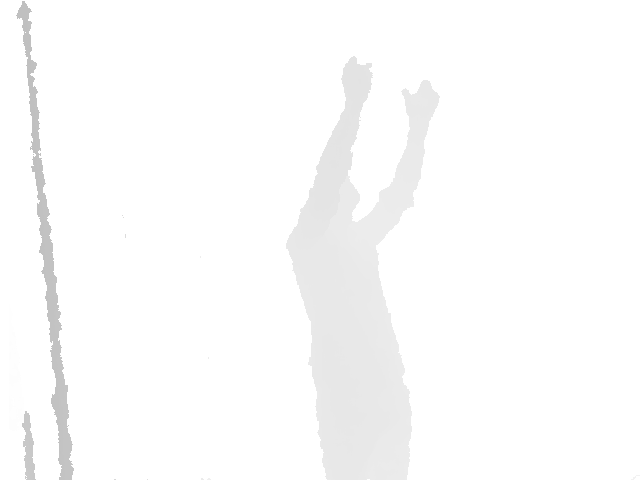hand: (401, 79, 440, 127), (341, 56, 373, 108)
head: (313, 171, 361, 221)
person: (284, 56, 441, 480)
